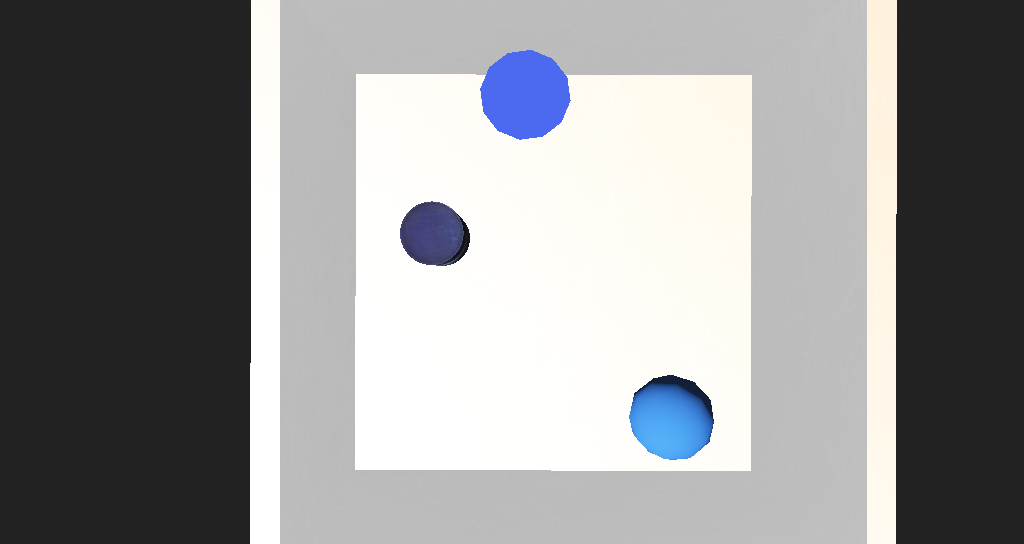cone: (391, 231, 445, 265)
cylinder: (445, 155, 512, 208)
sphere: (559, 320, 627, 367)
